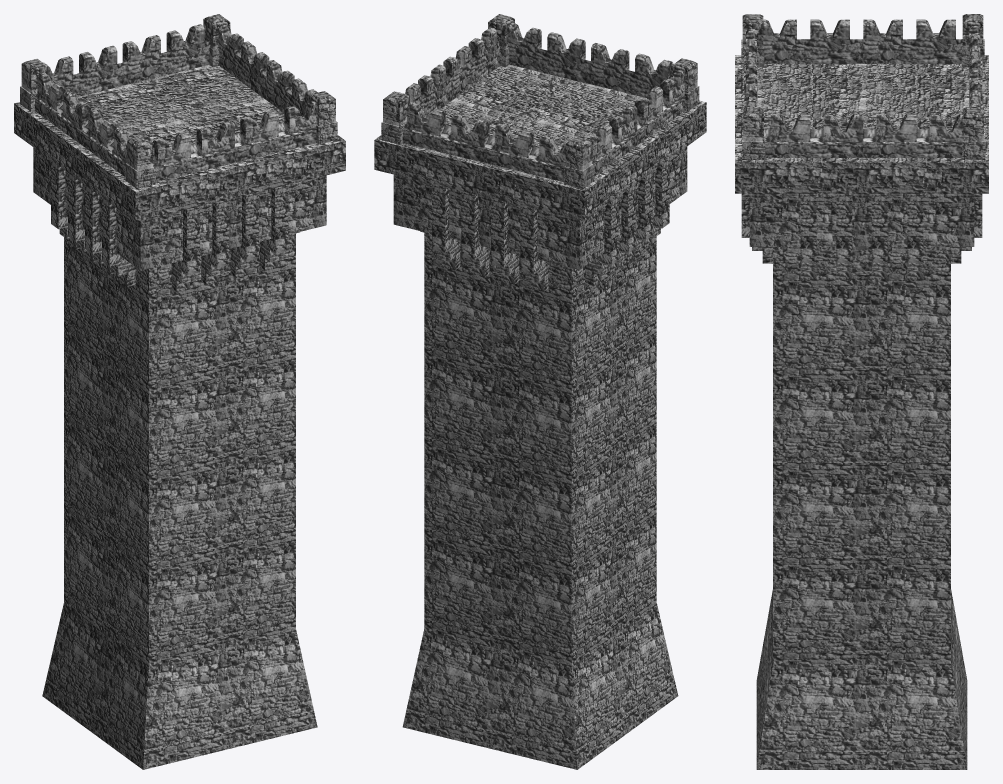
Rendered from castleSet_TowerA.fbx.
The picture shows the model from 3 angles, left to right: view 1: azimuth 30°, elevation 25°; view 2: azimuth 150°, elevation 25°; view 3: azimuth 270°, elevation 25°; orthographic projection. The views are drawn at different scales.
Visible parts, largest first — view 1: Tower; view 2: Tower; view 3: Tower.
Part boxes in pixels (x1,y1,x2,y2): Tower: (14,14,345,769); Tower: (374,14,706,769); Tower: (735,14,988,769).
Bounding box in the file's own units: 23.93 × 68.82 × 23.93.
